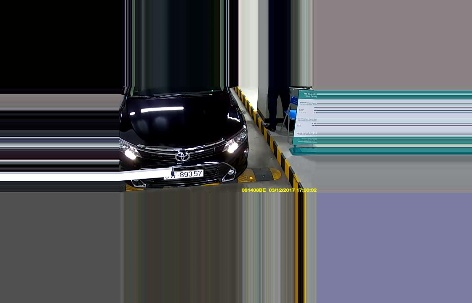plate: (163, 168, 203, 177)
